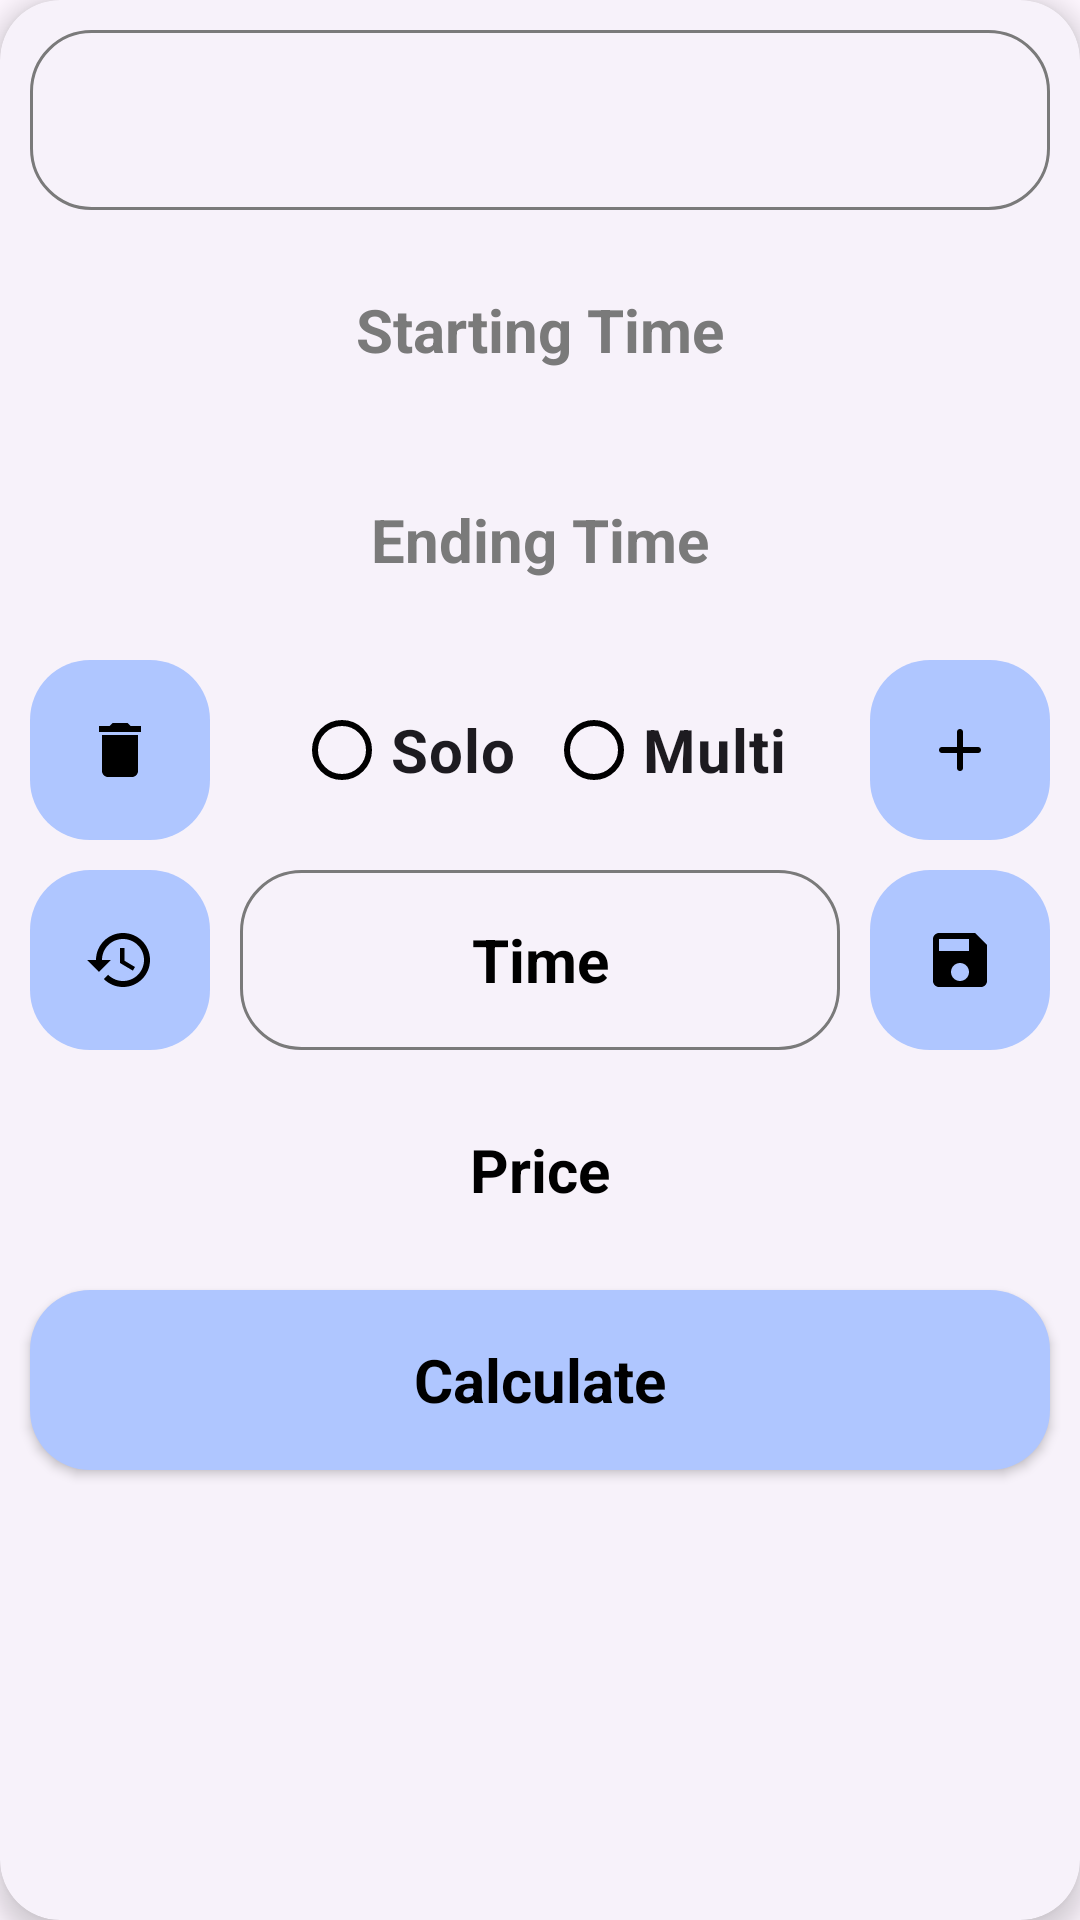

Point at icon controls on the screen. Image size 1080*1920, points as point (x, y).
delete: point (120, 750)
history: point (120, 960)
plus: point (960, 750)
save: point (960, 960)
